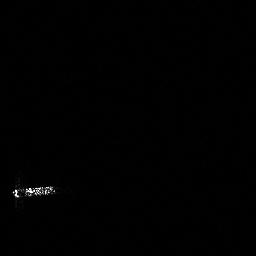ship: (13, 186, 54, 197)
